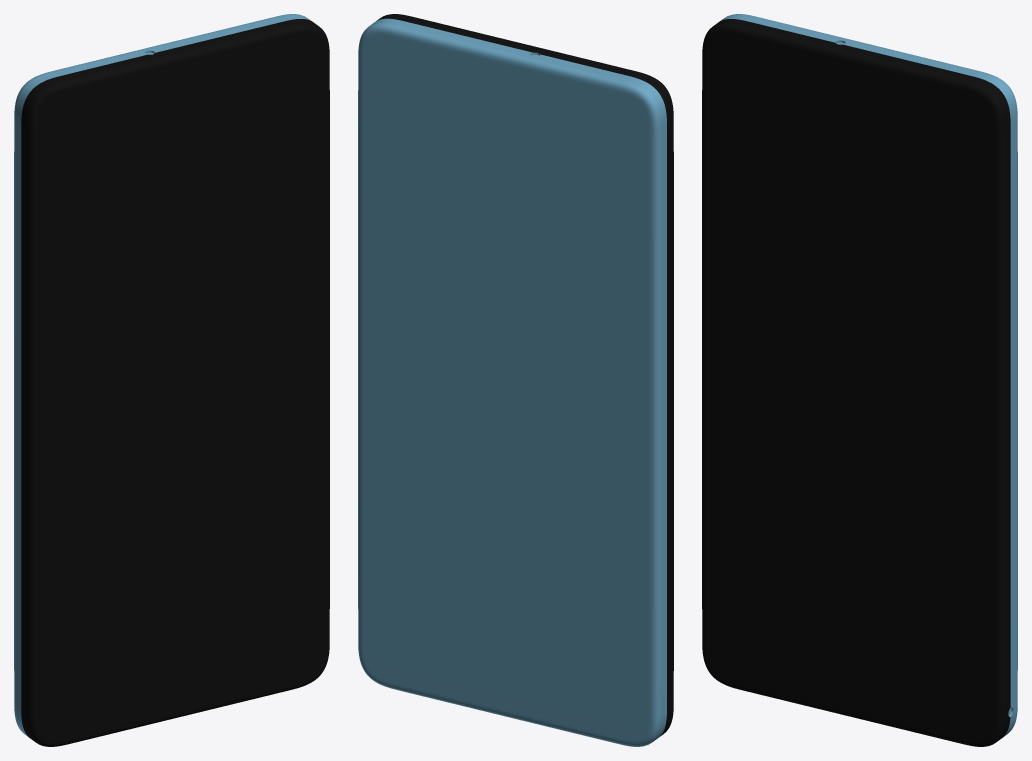
File: Phone.glb
3 renders of one model, left to right at view 1: azimuth 30°, elevation 25°; view 2: azimuth 150°, elevation 25°; view 3: azimuth 330°, elevation 25°, orthographic.
Visible parts, largest first — view 1: watch; view 2: watch; view 3: watch.
Boxes of the visible parts, <box> form: watch: <box>14,14,329,746</box>; watch: <box>358,14,673,746</box>; watch: <box>702,14,1017,746</box>.
Bounding box in the file's own units: 0.075 × 0.1581 × 0.00824.
